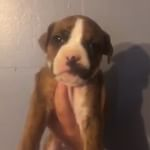puppy: (19, 12, 118, 150)
